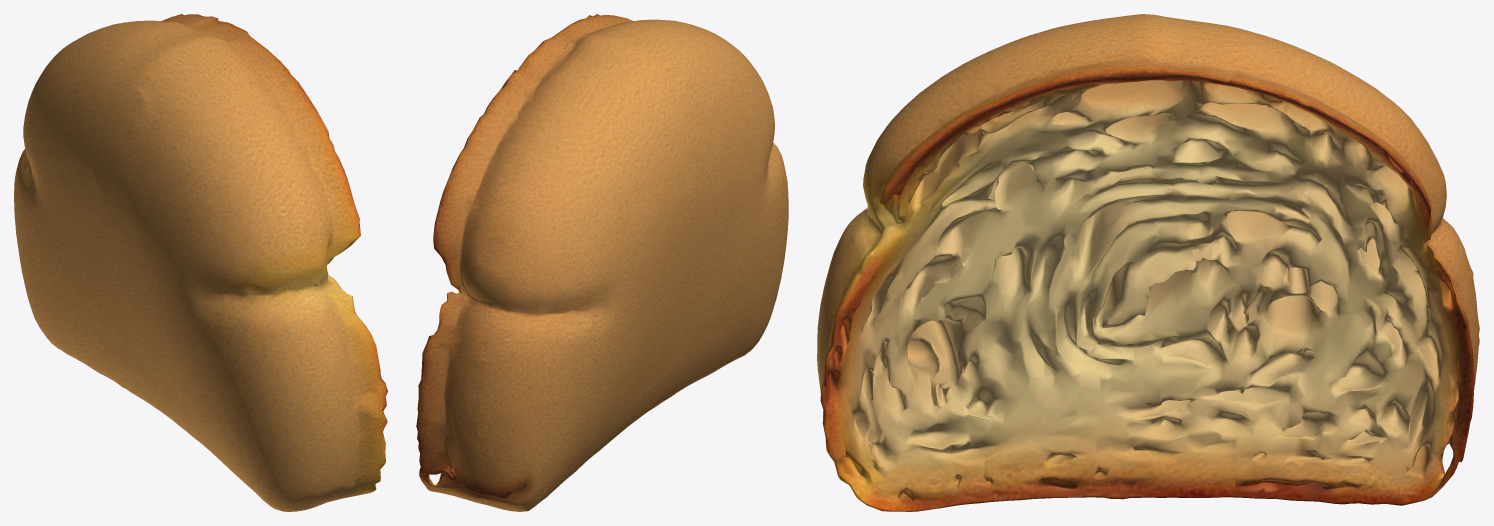
Rendered from bread.glb.
3 renders of one model, left to right at view 1: azimuth 30°, elevation 25°; view 2: azimuth 150°, elevation 25°; view 3: azimuth 270°, elevation 25°, orthographic. The views are drawn at different scales.
Visible parts, largest first — view 1: tripo_node_d1432a07-4a83-4066-9a00-bf4907b6fdec; view 2: tripo_node_d1432a07-4a83-4066-9a00-bf4907b6fdec; view 3: tripo_node_d1432a07-4a83-4066-9a00-bf4907b6fdec.
Boxes of the visible parts, x1,y1,x2,y2 form: tripo_node_d1432a07-4a83-4066-9a00-bf4907b6fdec: (14,14,387,511); tripo_node_d1432a07-4a83-4066-9a00-bf4907b6fdec: (416,14,788,511); tripo_node_d1432a07-4a83-4066-9a00-bf4907b6fdec: (817,14,1479,511).
Bounding box in the file's own units: 0.3099 × 0.7577 × 1.
Materials: 1 (1 with a texture image).
